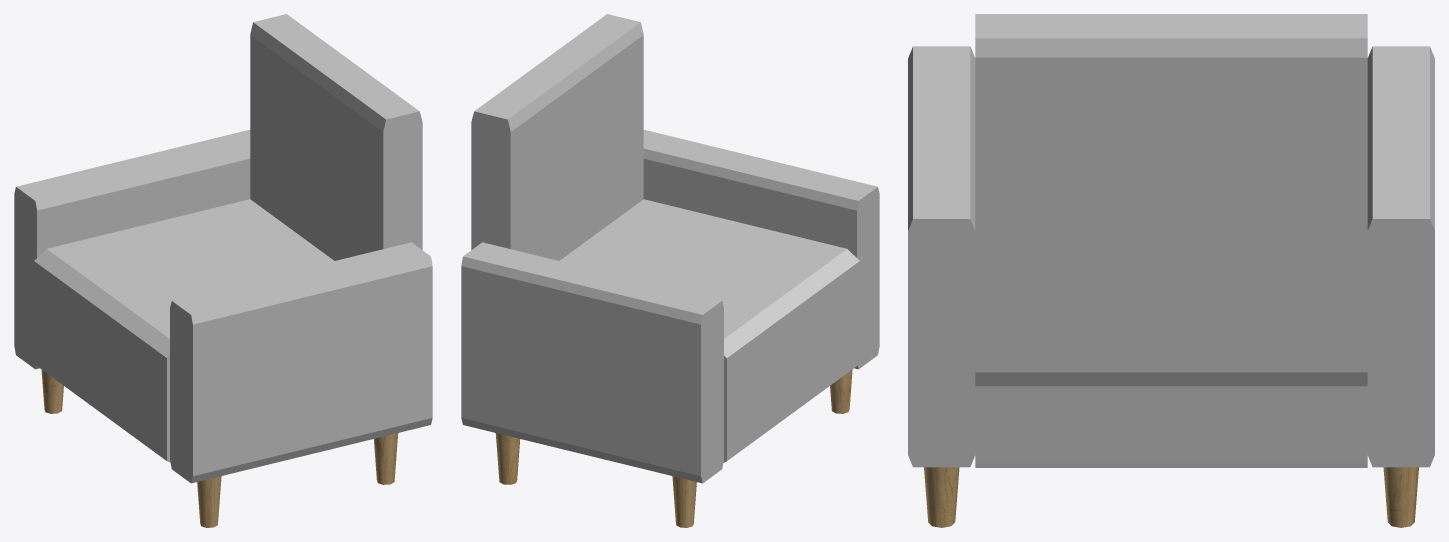
File: Seatersofa.fbx
The picture shows the model from 3 angles, left to right: view 1: azimuth 30°, elevation 25°; view 2: azimuth 150°, elevation 25°; view 3: azimuth 270°, elevation 25°; orthographic projection. The views are drawn at different scales.
Visible parts, largest first — view 1: Object002, Box004, Cylinder004; view 2: Object002, Box004, Cylinder004; view 3: Box004, Object002, Cylinder004.
Boxes of the visible parts, x1=… form: Object002: x1=14, y1=129, x2=432, y2=483; Box004: x1=34, y1=14, x2=422, y2=462; Cylinder004: x1=41, y1=369, x2=398, y2=527; Object002: x1=461, y1=129, x2=879, y2=483; Box004: x1=471, y1=14, x2=859, y2=462; Cylinder004: x1=495, y1=369, x2=852, y2=527; Box004: x1=975, y1=14, x2=1367, y2=467; Object002: x1=908, y1=46, x2=1434, y2=467; Cylinder004: x1=924, y1=467, x2=1418, y2=527.
Bounding box in the file's own units: 8.53 × 11.17 × 10.32.
